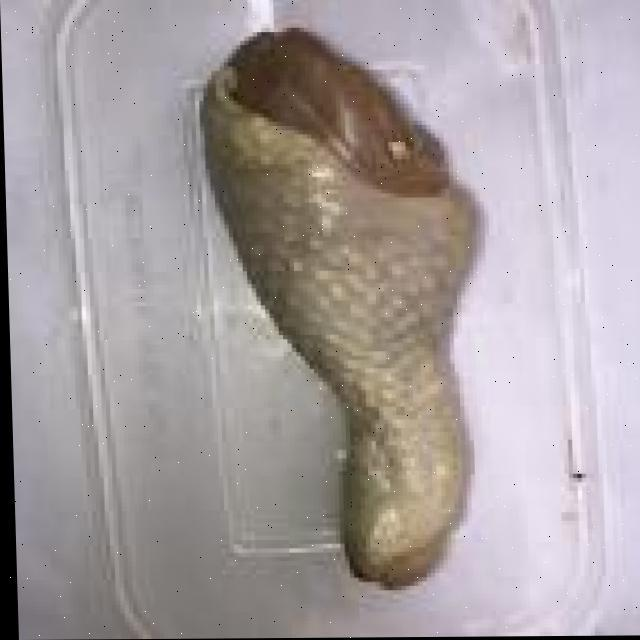leg: (198, 15, 498, 584)
